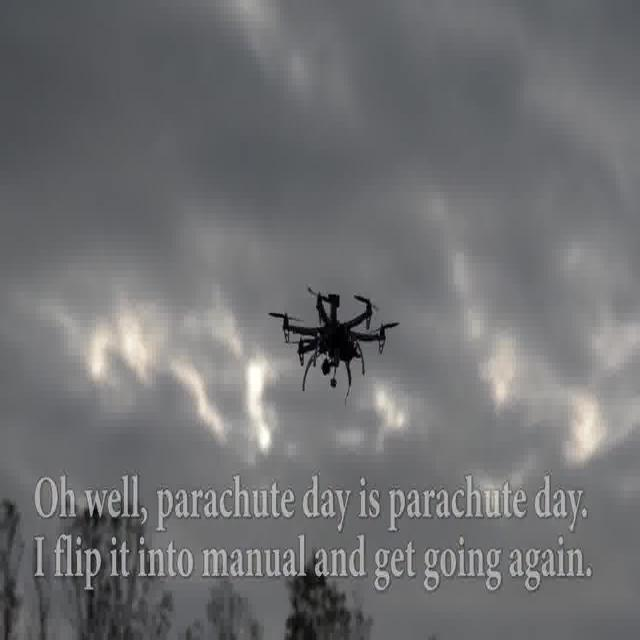drone: (263, 276, 399, 413)
